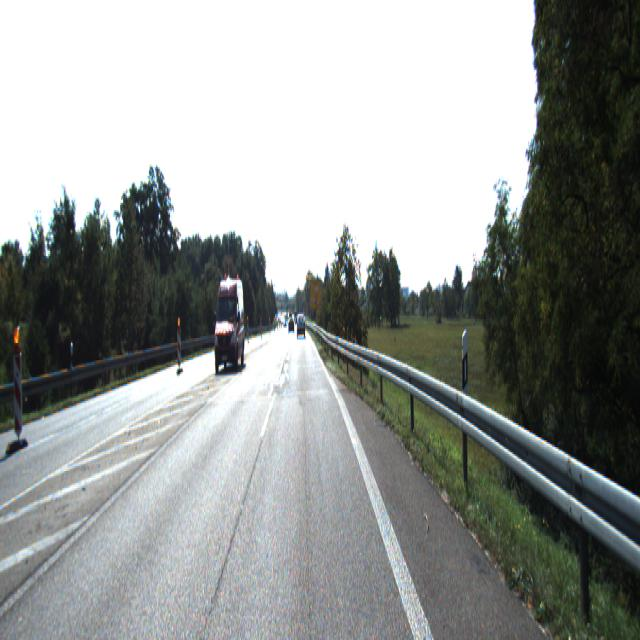Car: (213, 279, 245, 381), (296, 316, 306, 338)
